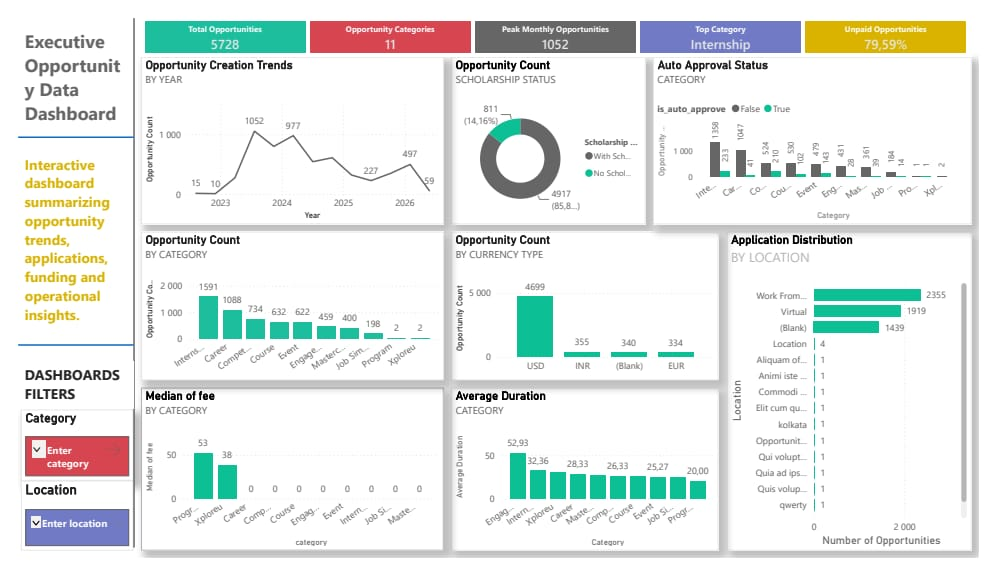

This screenshot's page, from the dashboard's own definition file:
{"tool":"powerbi","page":{"name":"Executive Dashboard","canvas":[1280,720],"ordinal":0},"visuals":[{"type":"donutChart","title":"Opportunity Count","fields":{"Category":["Opportunity_Data_clean.Scholarship Status"],"Y":["CountNonNull(Opportunity_Data_clean.opportunity_id)"]},"box":[576.9,52.4,259.4,222.5],"z":0},{"type":"clusteredBarChart","title":"Application Distribution","fields":{"Category":["Opportunity_Data_clean.location"],"Y":["CountNonNull(Opportunity_Data_clean.opportunity_id)"]},"box":[943.9,284.9,326,425.2],"z":1000},{"type":"textSlicer","title":"Category","fields":{"Values":["Opportunity_Data_clean.category"]},"box":[4.3,521.6,150.2,95],"z":2000},{"type":"textSlicer","title":"Location","fields":{"Values":["Opportunity_Data_clean.location"]},"box":[4.3,616.5,150.2,93.5],"z":3000},{"type":"clusteredColumnChart","title":"Average Duration","fields":{"Category":["Opportunity_Data_clean.category"],"Y":["Avg(Opportunity_Data_clean.duration)"]},"box":[576.9,493.2,355.7,216.9],"z":4000},{"type":"clusteredColumnChart","title":"Median of fee","fields":{"Category":["Opportunity_Data_clean.category"],"Y":["Median(Opportunity_Data_clean.fee)"]},"box":[164.4,493.2,402.5,216.9],"z":5000},{"type":"clusteredColumnChart","title":"Opportunity Count","fields":{"Category":["Opportunity_Data_clean.currency_type"],"Y":["CountNonNull(Opportunity_Data_clean.opportunity_id)"]},"box":[576.9,284.9,355.7,198.4],"z":6000},{"type":"clusteredColumnChart","title":"Auto Approval Status","fields":{"Category":["Opportunity_Data_clean.category"],"Series":["Opportunity_Data_clean.is_auto_approve"],"Y":["CountNonNull(Opportunity_Data_clean.opportunity_id)"]},"box":[846.1,52.4,423.8,222.5],"z":7000},{"type":"lineChart","title":"Opportunity Creation Trends","fields":{"Category":["Opportunity_Data_clean.created_at.Variation.Date Hierarchy.Year","Opportunity_Data_clean.created_at.Variation.Date Hierarchy.Month","Opportunity_Data_clean.created_at.Variation.Date Hierarchy.Day"],"Y":["CountNonNull(Opportunity_Data_clean.opportunity_id)"]},"box":[164.4,52.4,402.5,222.5],"z":8000},{"type":"clusteredColumnChart","title":"Opportunity Count","fields":{"Category":["Opportunity_Data_clean.category"],"Y":["CountNonNull(Opportunity_Data_clean.opportunity_id)"]},"box":[164.4,284.9,402.5,198.4],"z":9000},{"type":"textbox","box":[4.3,8.6,150,145.7],"z":10000},{"type":"textbox","box":[4.3,177.1,150,254.3],"z":11000},{"type":"cardVisual","fields":{"Data":["Opportunity_Data_clean.Total Opportunities","Opportunity_Data_clean.Opportunity Categories","Opportunity_Data_clean.Peak Monthly Opportunities","Opportunity_Data_clean.Total Opportunity Categories","Opportunity_Data_clean.Unpaid Opportunities"]},"box":[164.4,0,1105.5,52.4],"z":12000},{"type":"shape","box":[134.6,0,39.7,705.8],"z":12002},{"type":"textbox","box":[4.3,457.8,150.2,63.8],"z":12003},{"type":"shape","box":[0,154.3,154.3,10],"z":12004},{"type":"shape","box":[0,431.4,154.3,10],"z":12005}]}

Visuals, with their boxes in screenshot pixels (x1, y1, x2, y2), scaled from the page's 1280x720 canvas onto the 997x576 screenshot:
"Opportunity Count" donutChart: box=[449, 42, 651, 220]
"Application Distribution" clusteredBarChart: box=[735, 228, 989, 568]
"Category" textSlicer: box=[3, 417, 120, 493]
"Location" textSlicer: box=[3, 493, 120, 568]
"Average Duration" clusteredColumnChart: box=[449, 395, 726, 568]
"Median of fee" clusteredColumnChart: box=[128, 395, 442, 568]
"Opportunity Count" clusteredColumnChart: box=[449, 228, 726, 387]
"Auto Approval Status" clusteredColumnChart: box=[659, 42, 989, 220]
"Opportunity Creation Trends" lineChart: box=[128, 42, 442, 220]
"Opportunity Count" clusteredColumnChart: box=[128, 228, 442, 387]
textbox: box=[3, 7, 120, 123]
textbox: box=[3, 142, 120, 345]
cardVisual - Opportunity_Data_clean.Total Opportunities x Opportunity_Data_clean.Opportunity Categories: box=[128, 0, 989, 42]
shape: box=[105, 0, 136, 565]
textbox: box=[3, 366, 120, 417]
shape: box=[0, 123, 120, 131]
shape: box=[0, 345, 120, 353]
